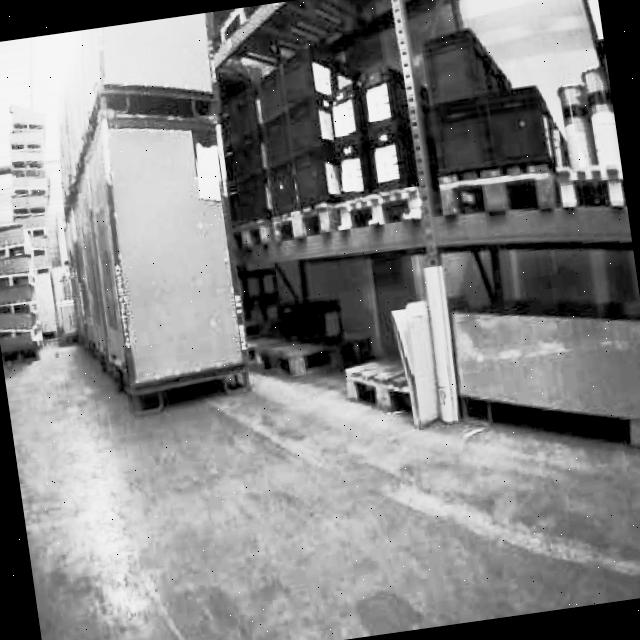ground: (1, 253, 640, 640)
pallet: (199, 0, 640, 506), (231, 151, 628, 265), (0, 96, 82, 364), (336, 297, 446, 436), (0, 223, 48, 358), (246, 326, 338, 382), (343, 353, 413, 418)
